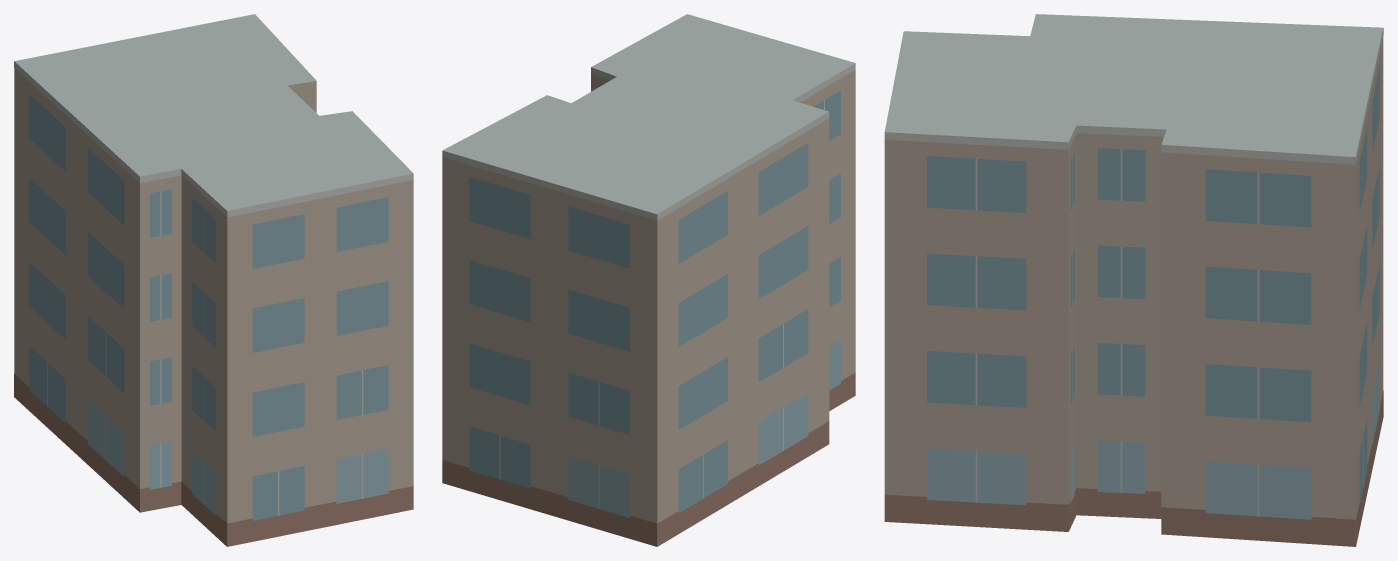
Rendered from survey-upis-32788770.glb.
3 views of the same model, side by side, from view 1: azimuth 30°, elevation 25°; view 2: azimuth 150°, elevation 25°; view 3: azimuth 270°, elevation 25° (orthographic). The views are drawn at different scales.
Visible parts, largest first — view 1: survey-upis-32788770.tmp; view 2: survey-upis-32788770.tmp; view 3: survey-upis-32788770.tmp.
Boxes of the visible parts, x1,y1,x2,y2 form: survey-upis-32788770.tmp: (14,14,413,546); survey-upis-32788770.tmp: (442,14,855,546); survey-upis-32788770.tmp: (884,14,1383,546).
Size of the model in its own units: 9.9 by 12.55 by 14.57.
